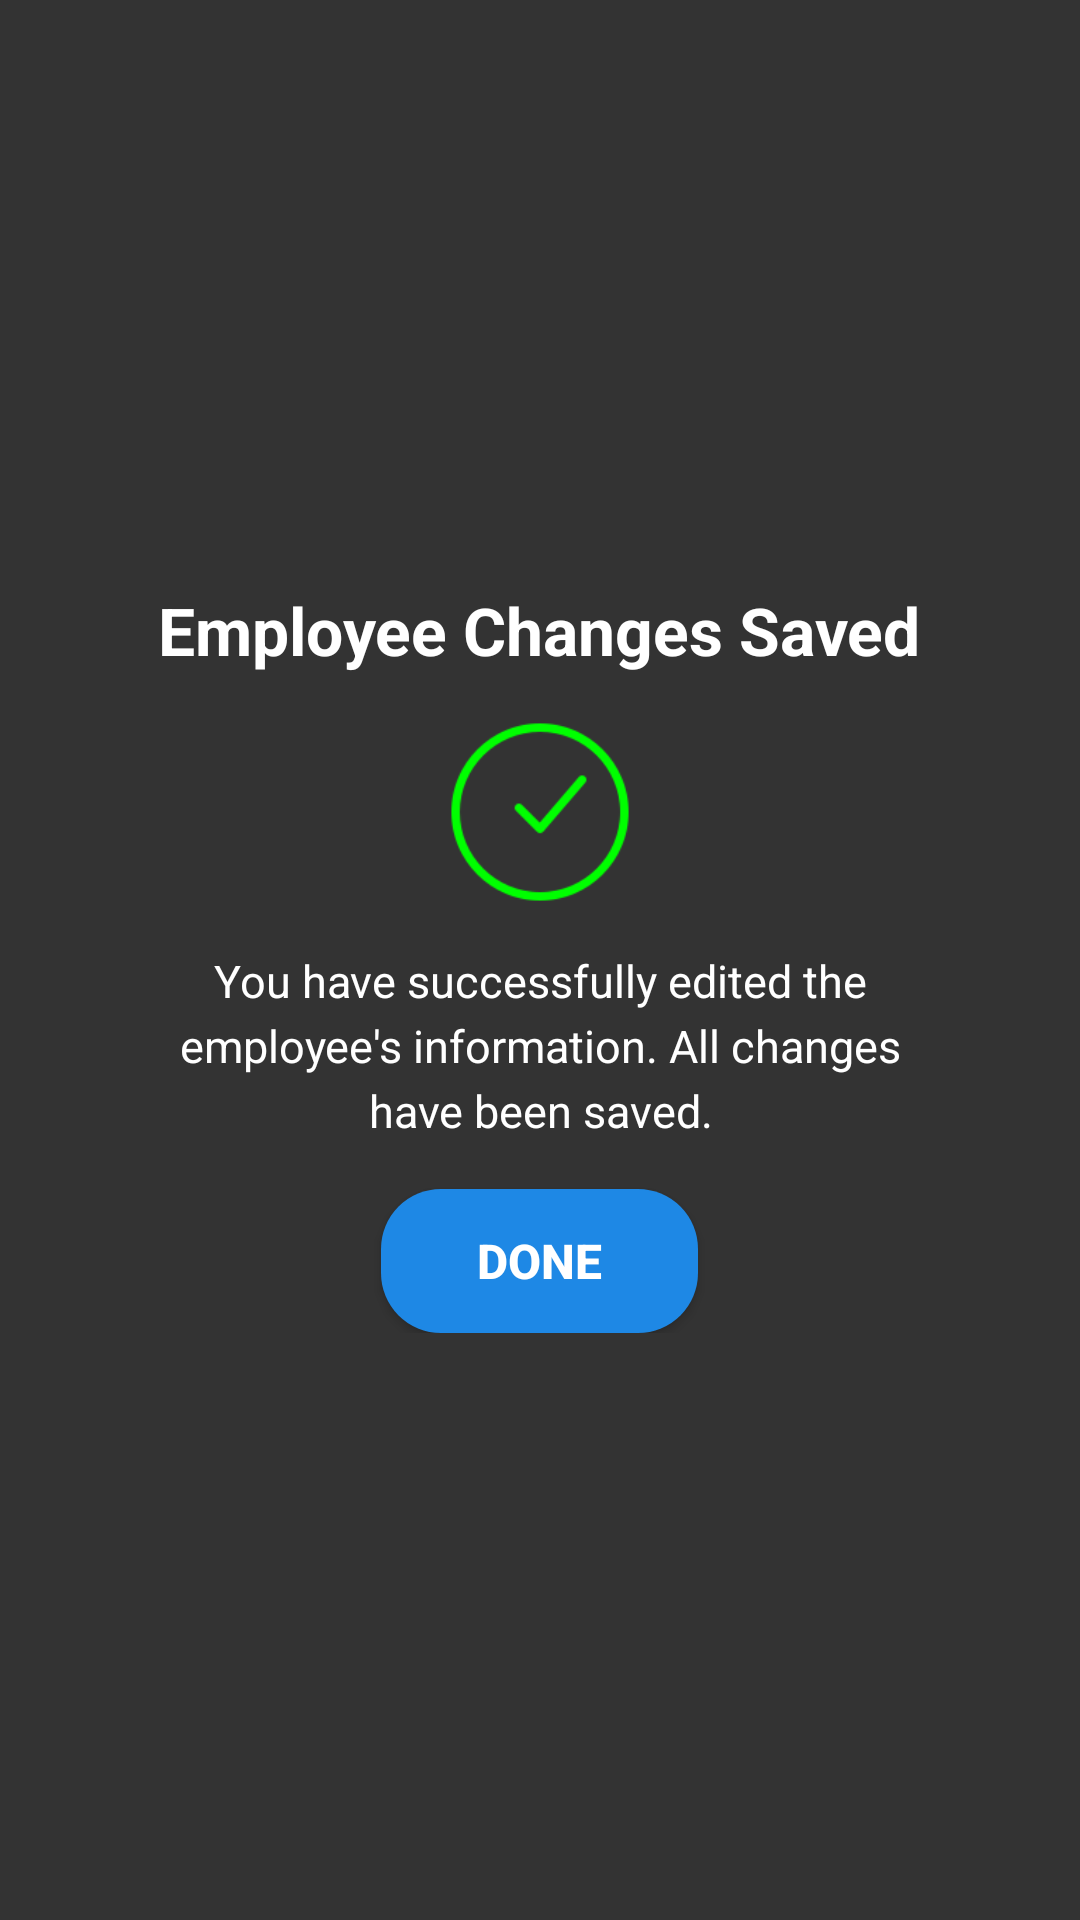

Named icons in this screenshot (1080w x 1920h) and their centers, (x,y):
Tick: (540,812)
